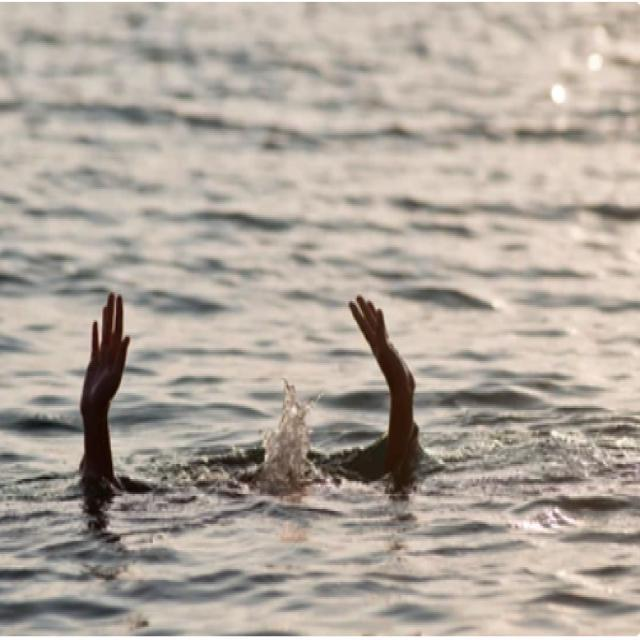Out of Water: (75, 288, 424, 502)
